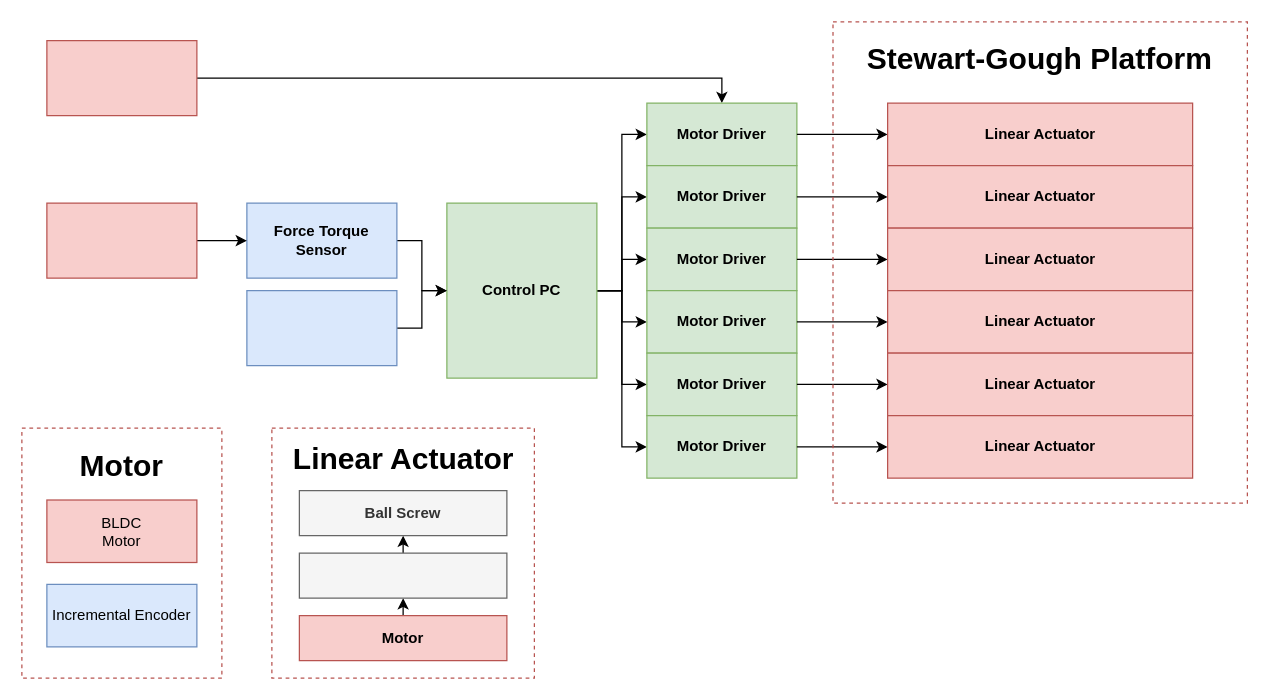
This 1270x700 diagram has some shape labels left out. The centre of each missing label's shape, as x and y in pixels:
"24V Power Supply" goes at (x=121, y=77).
"5V Power Supply" goes at (x=121, y=240).
"Gear Box" goes at (x=402, y=575).
"JoyStick" goes at (x=321, y=327).
